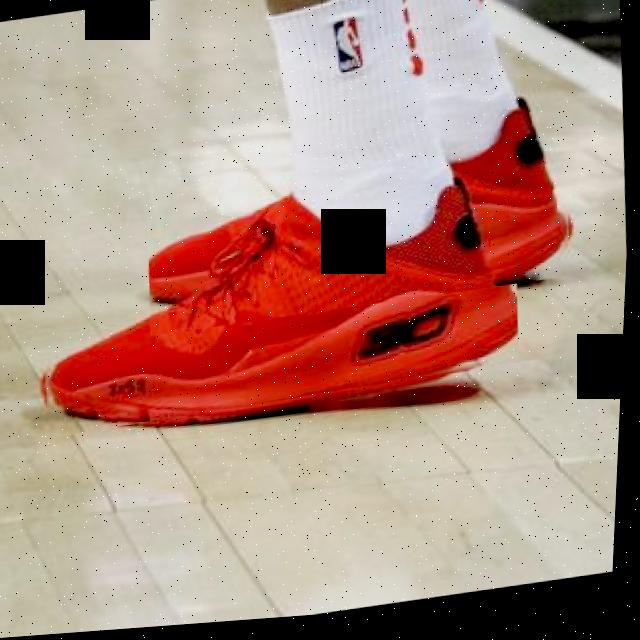shoe: (28, 163, 530, 441), (140, 101, 584, 339)
